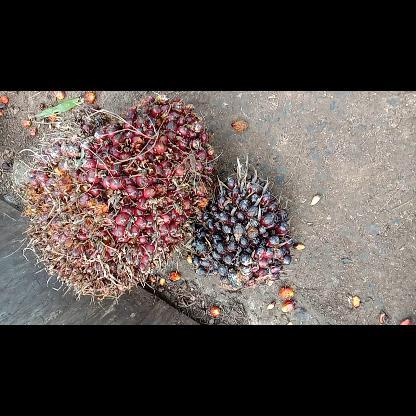TBS abnormal: (186, 164, 293, 288)
TBS masak: (18, 94, 216, 304)
